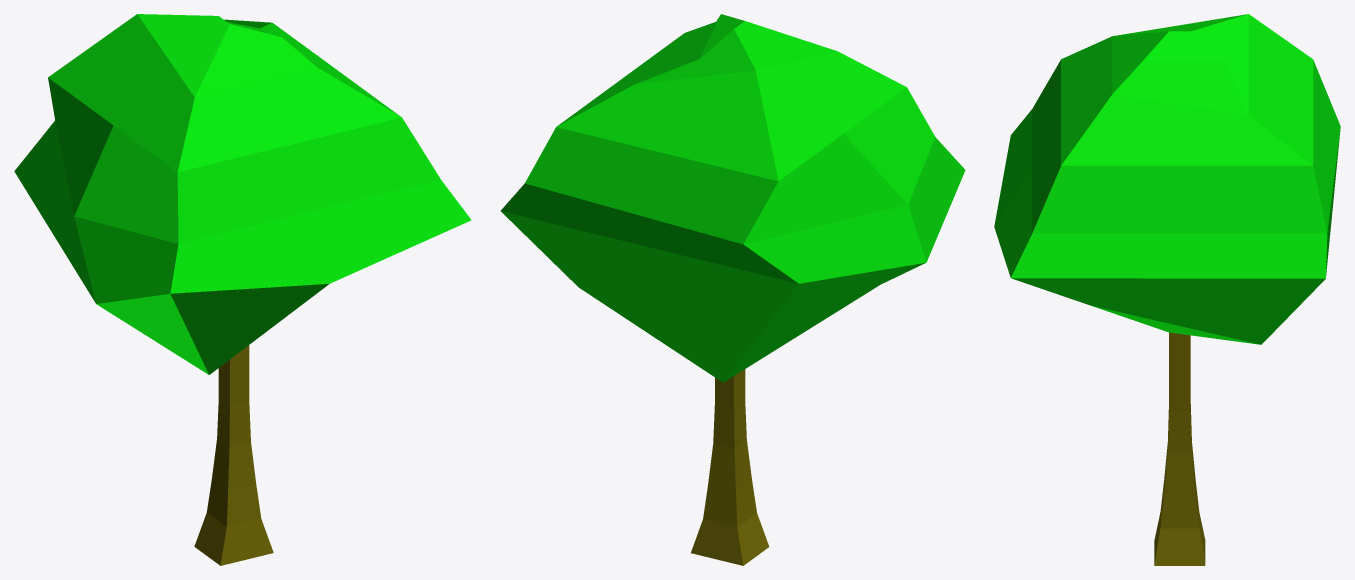
Rendered from tree.glb.
The picture shows the model from 3 angles, left to right: view 1: azimuth 30°, elevation 25°; view 2: azimuth 150°, elevation 25°; view 3: azimuth 270°, elevation 25°; orthographic projection. The views are drawn at different scales.
Parts seen in each view (by area): view 1: Cube; view 2: Cube; view 3: Cube.
Part boxes in pixels (x1,y1,x2,y2): Cube: (14,14,471,565); Cube: (501,14,965,565); Cube: (994,14,1340,565).
Bounding box in the file's own units: 9.98 × 15.54 × 9.43.
